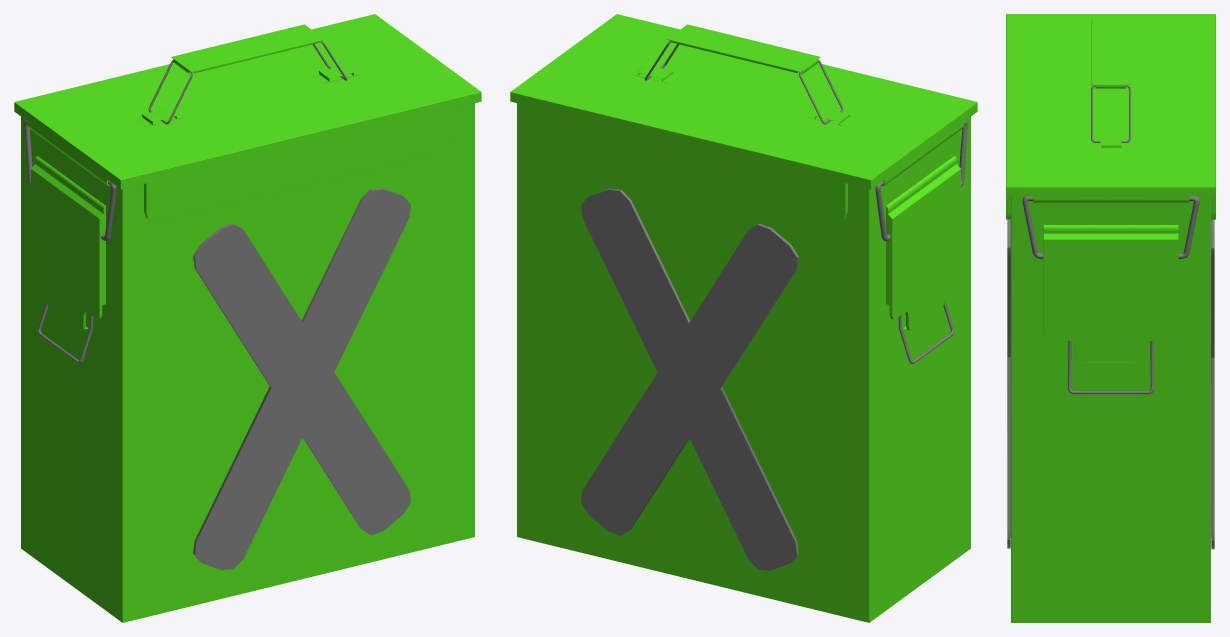
The model's file is Ammos.fbx.
3 renders of one model, left to right at view 1: azimuth 30°, elevation 25°; view 2: azimuth 150°, elevation 25°; view 3: azimuth 270°, elevation 25°, orthographic.
Visible parts, largest first — view 1: Box002; view 2: Box002; view 3: Box002.
Boxes of the visible parts, bbox=[...] form: Box002: bbox=[14, 14, 481, 622]; Box002: bbox=[510, 14, 977, 622]; Box002: bbox=[1006, 14, 1215, 622].
Size of the model in its own units: 90.43 by 113 by 44.04.
